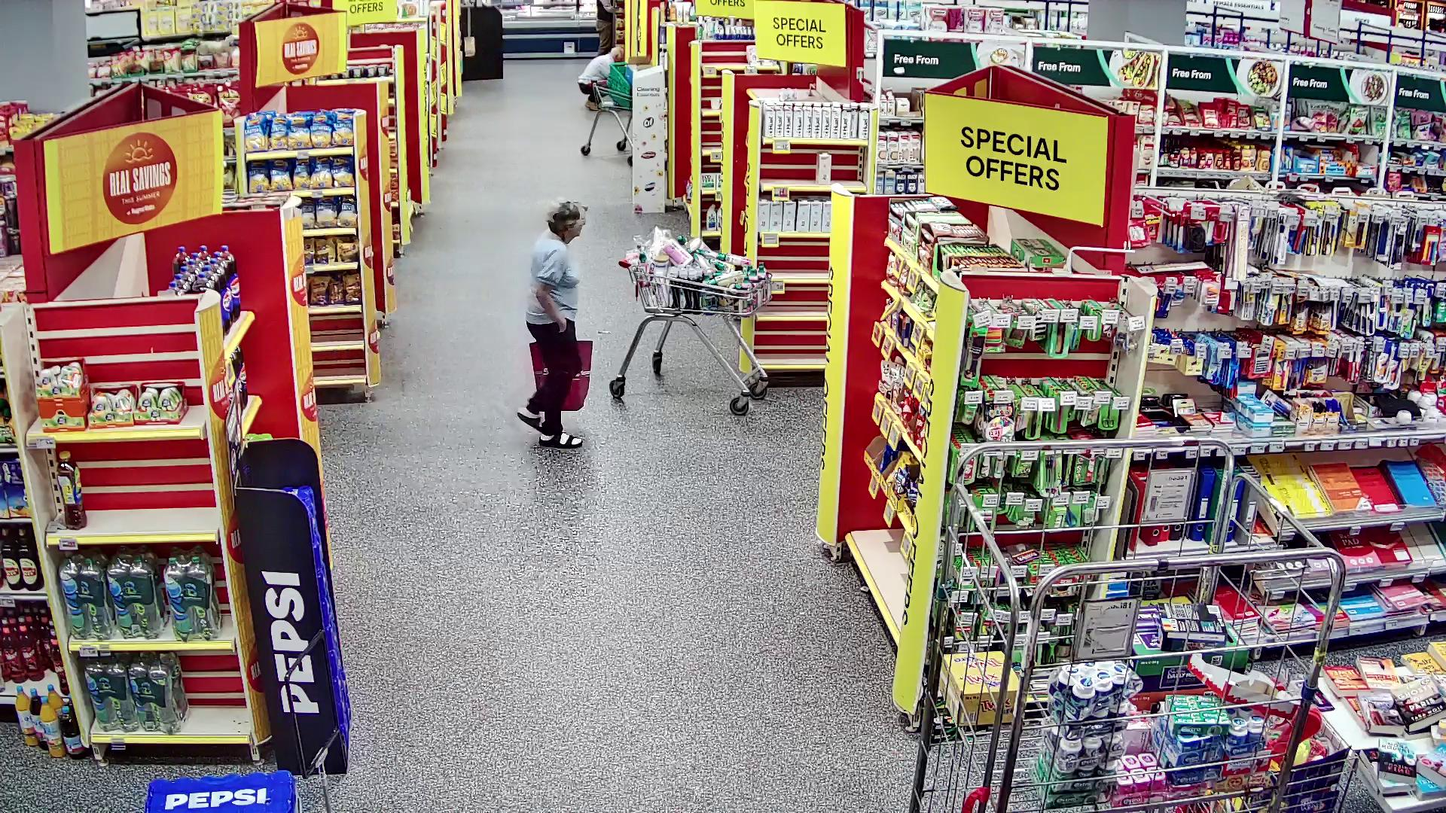filled-shopping-bags: (528, 340, 593, 411)
person: (518, 200, 590, 447)
person-with-filled-shopping-bag-s-: (518, 200, 594, 447)
